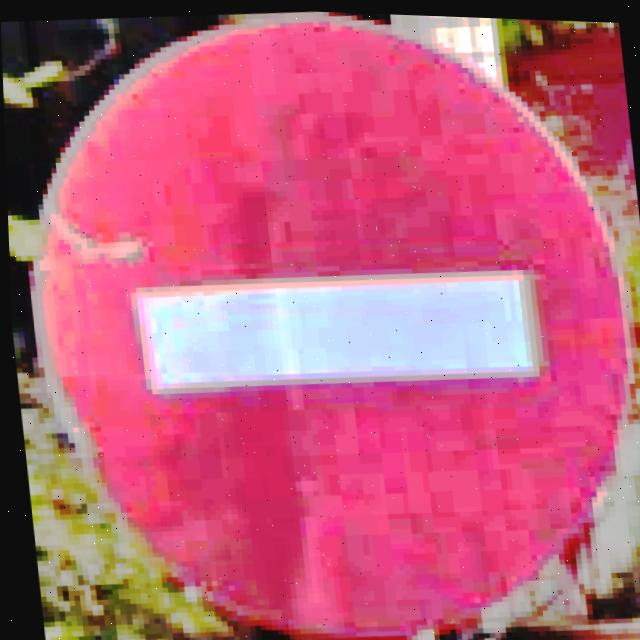noentry: (35, 20, 630, 633)
